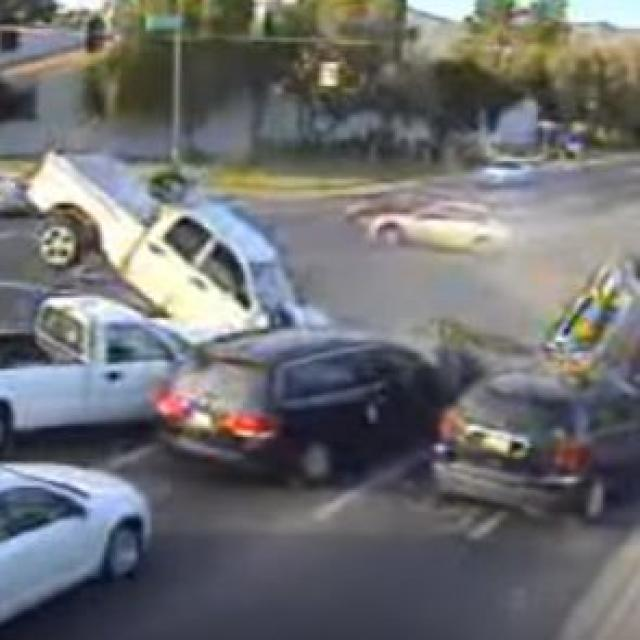traffic_incident: (19, 137, 430, 474), (423, 247, 634, 499)
